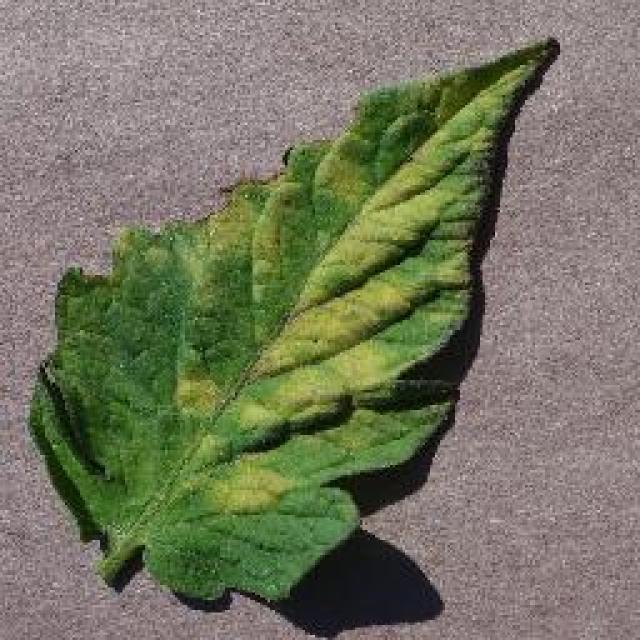Tomato mold leaf: (34, 39, 558, 608)
